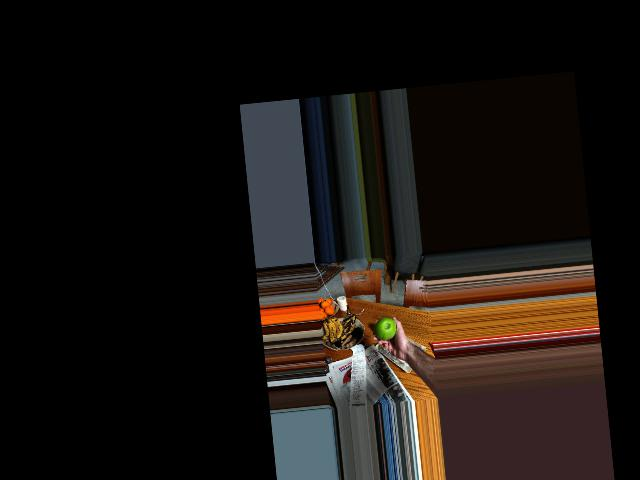apple: (372, 312, 398, 343)
